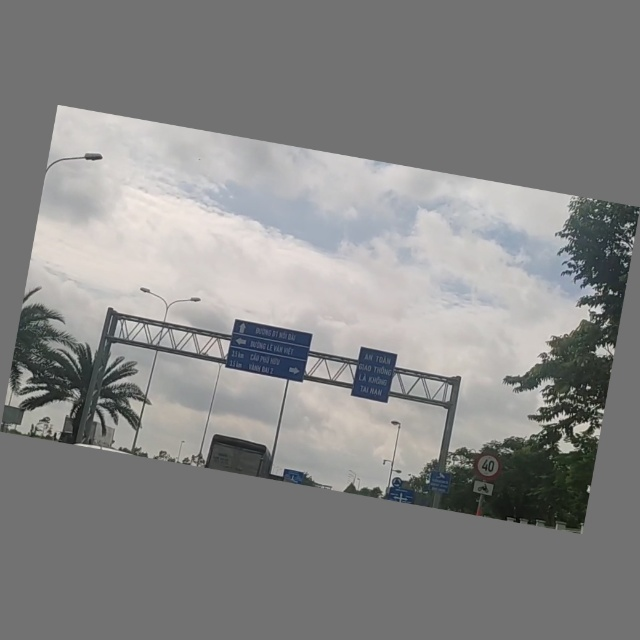P.127*40: (472, 452, 503, 483)
S.505a*Xe may: (469, 479, 498, 501)
